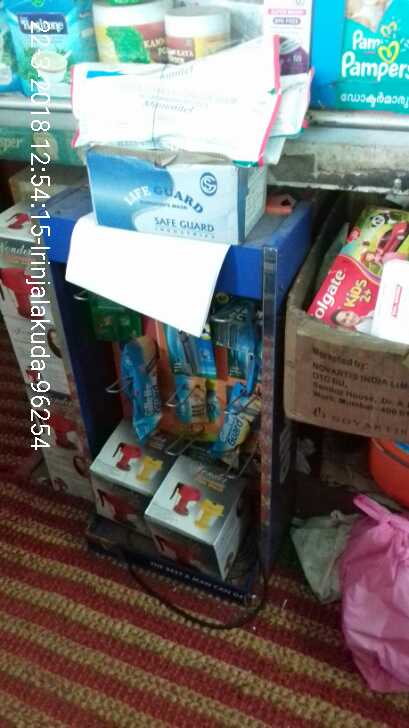reject: (105, 341, 212, 430)
